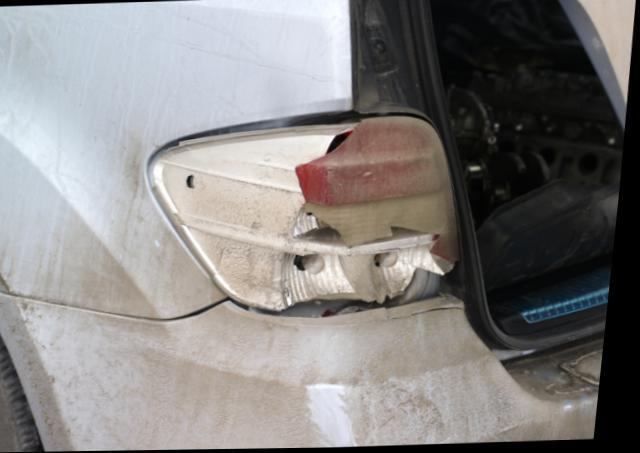lamp broken: (156, 118, 460, 318)
